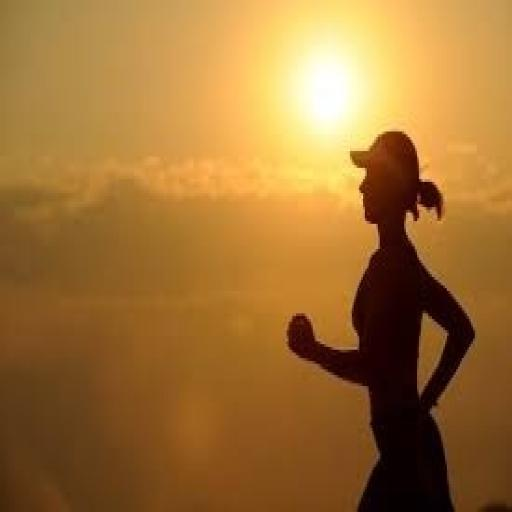running: (283, 126, 478, 509)
